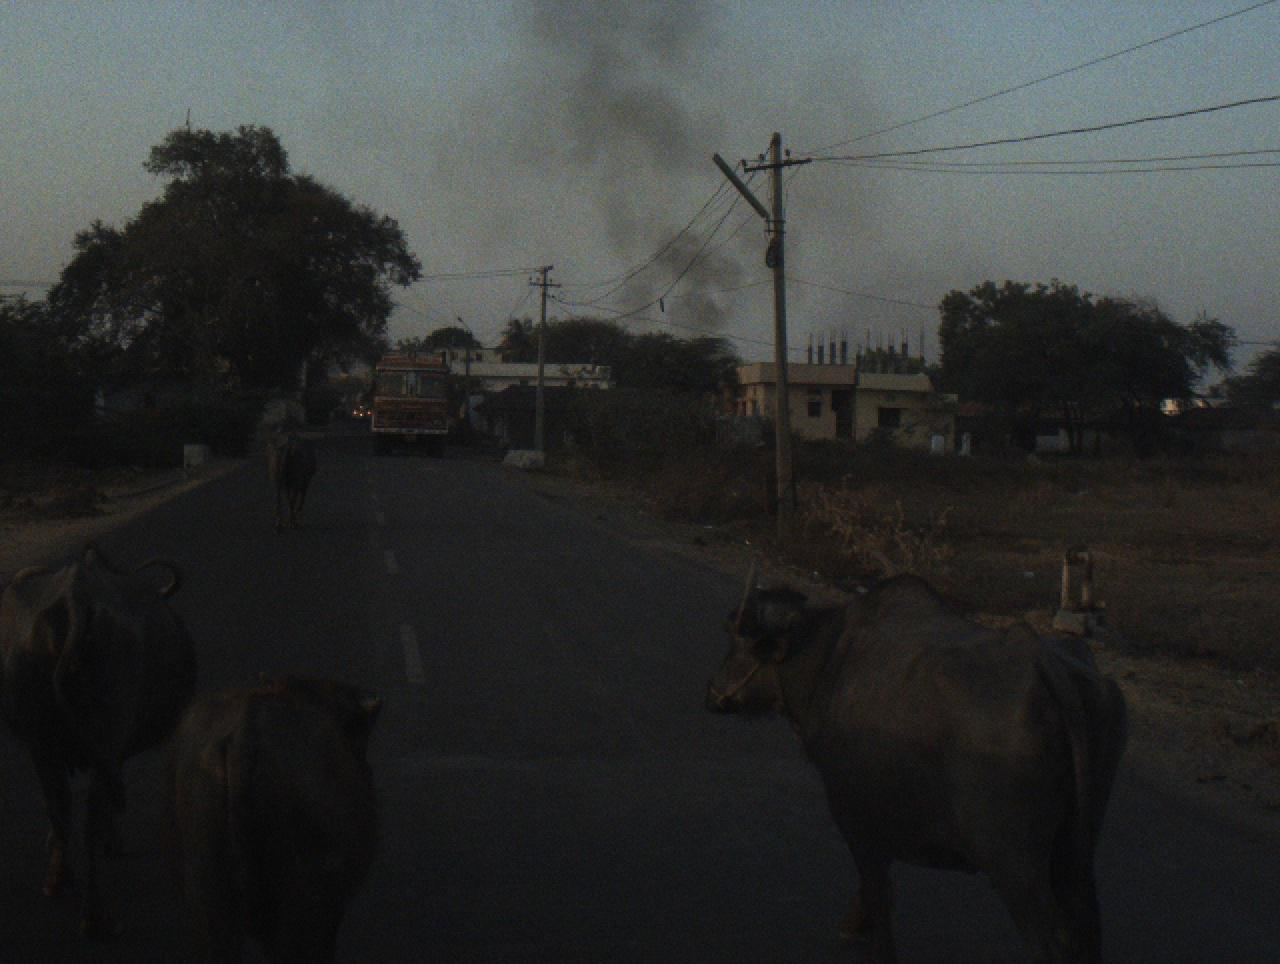off: (0, 0, 1183, 964)
